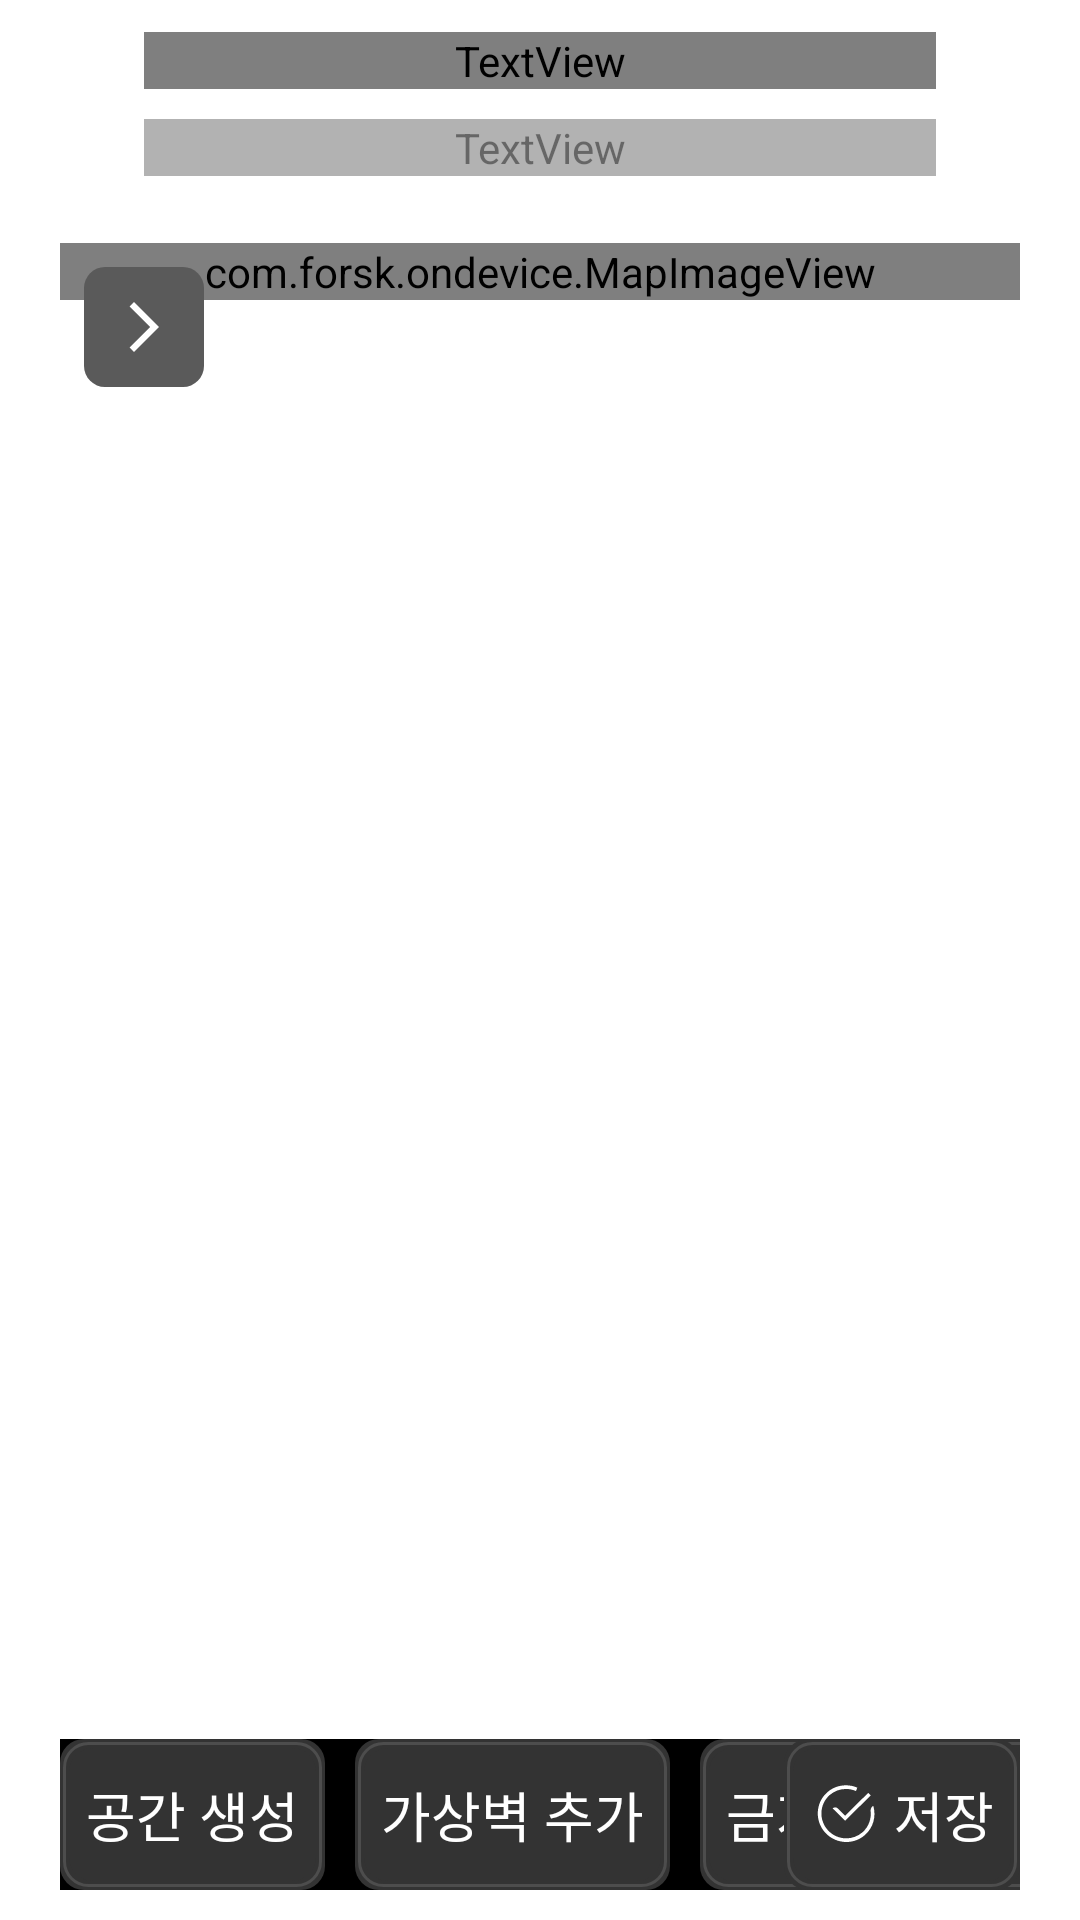

Screen size 1080 × 1920. Icon name, then its center in pixels as (x,y):
arrow forward: (144,327)
complete: (846,1813)
